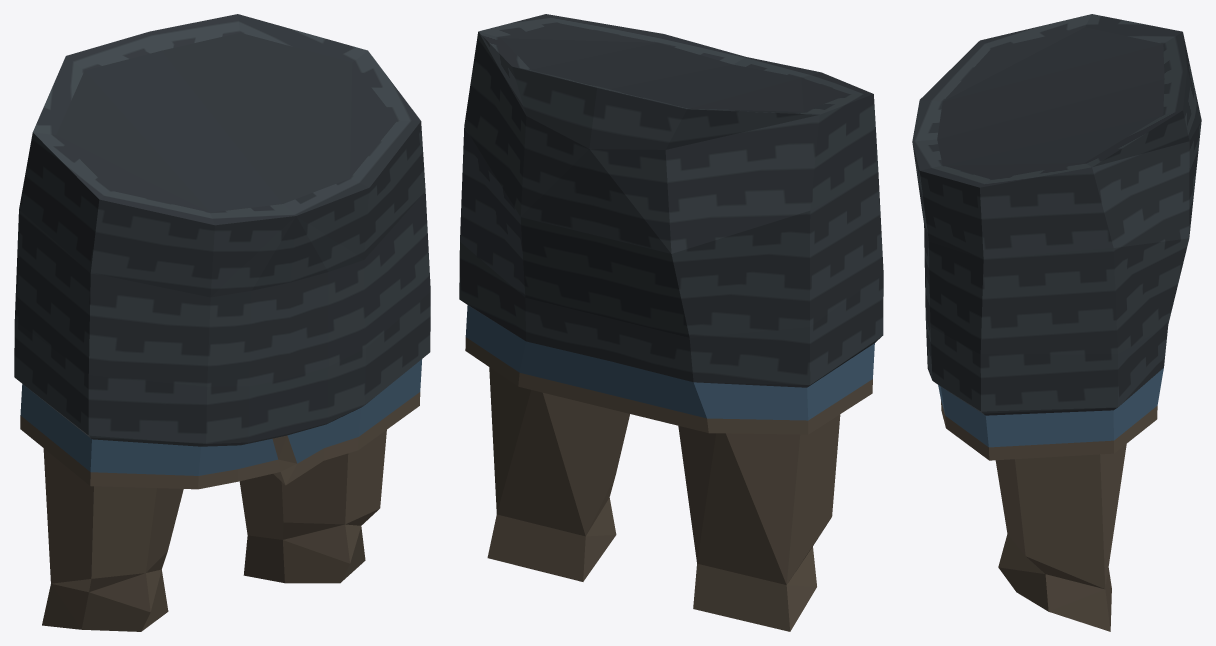
Rendered from Chr_Hips_Male_17_Static.fbx.
The picture shows the model from 3 angles, left to right: view 1: azimuth 30°, elevation 25°; view 2: azimuth 150°, elevation 25°; view 3: azimuth 270°, elevation 25°; orthographic projection. The views are drawn at different scales.
Visible parts, largest first — view 1: Chr_Hips_Male_17_Static; view 2: Chr_Hips_Male_17_Static; view 3: Chr_Hips_Male_17_Static.
Part boxes in pixels (x1,y1,x2,y2): Chr_Hips_Male_17_Static: [14, 14, 430, 631]; Chr_Hips_Male_17_Static: [459, 14, 883, 631]; Chr_Hips_Male_17_Static: [912, 14, 1201, 631].
Size of the model in its own units: 0.3836 by 0.5615 by 0.2977.
